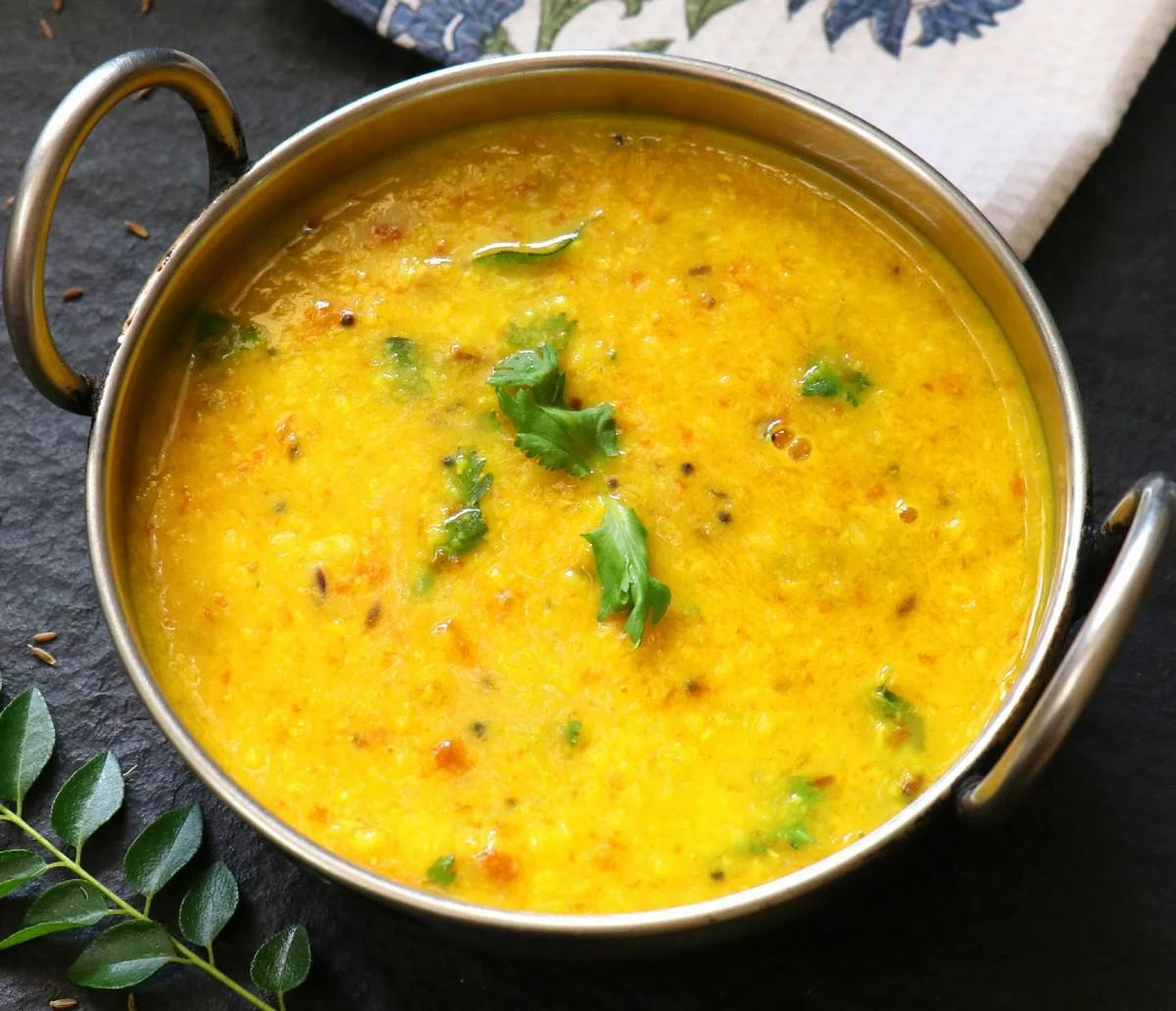Dal: (122, 108, 1052, 912)
